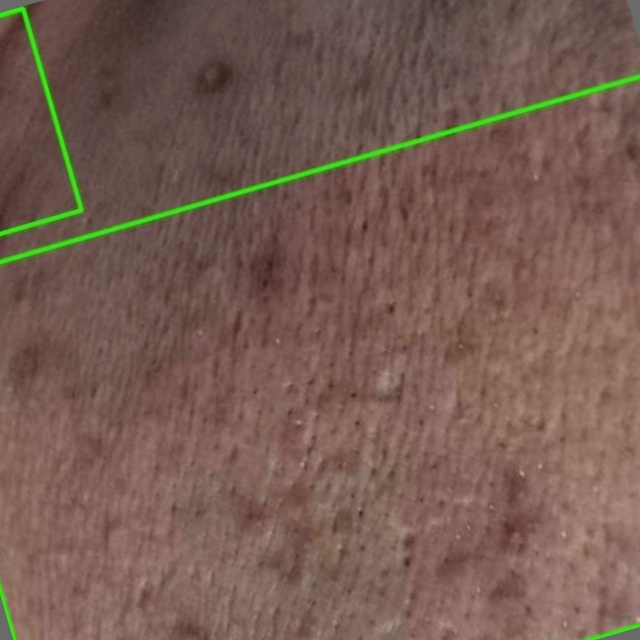Eczema: (0, 76, 639, 639)
